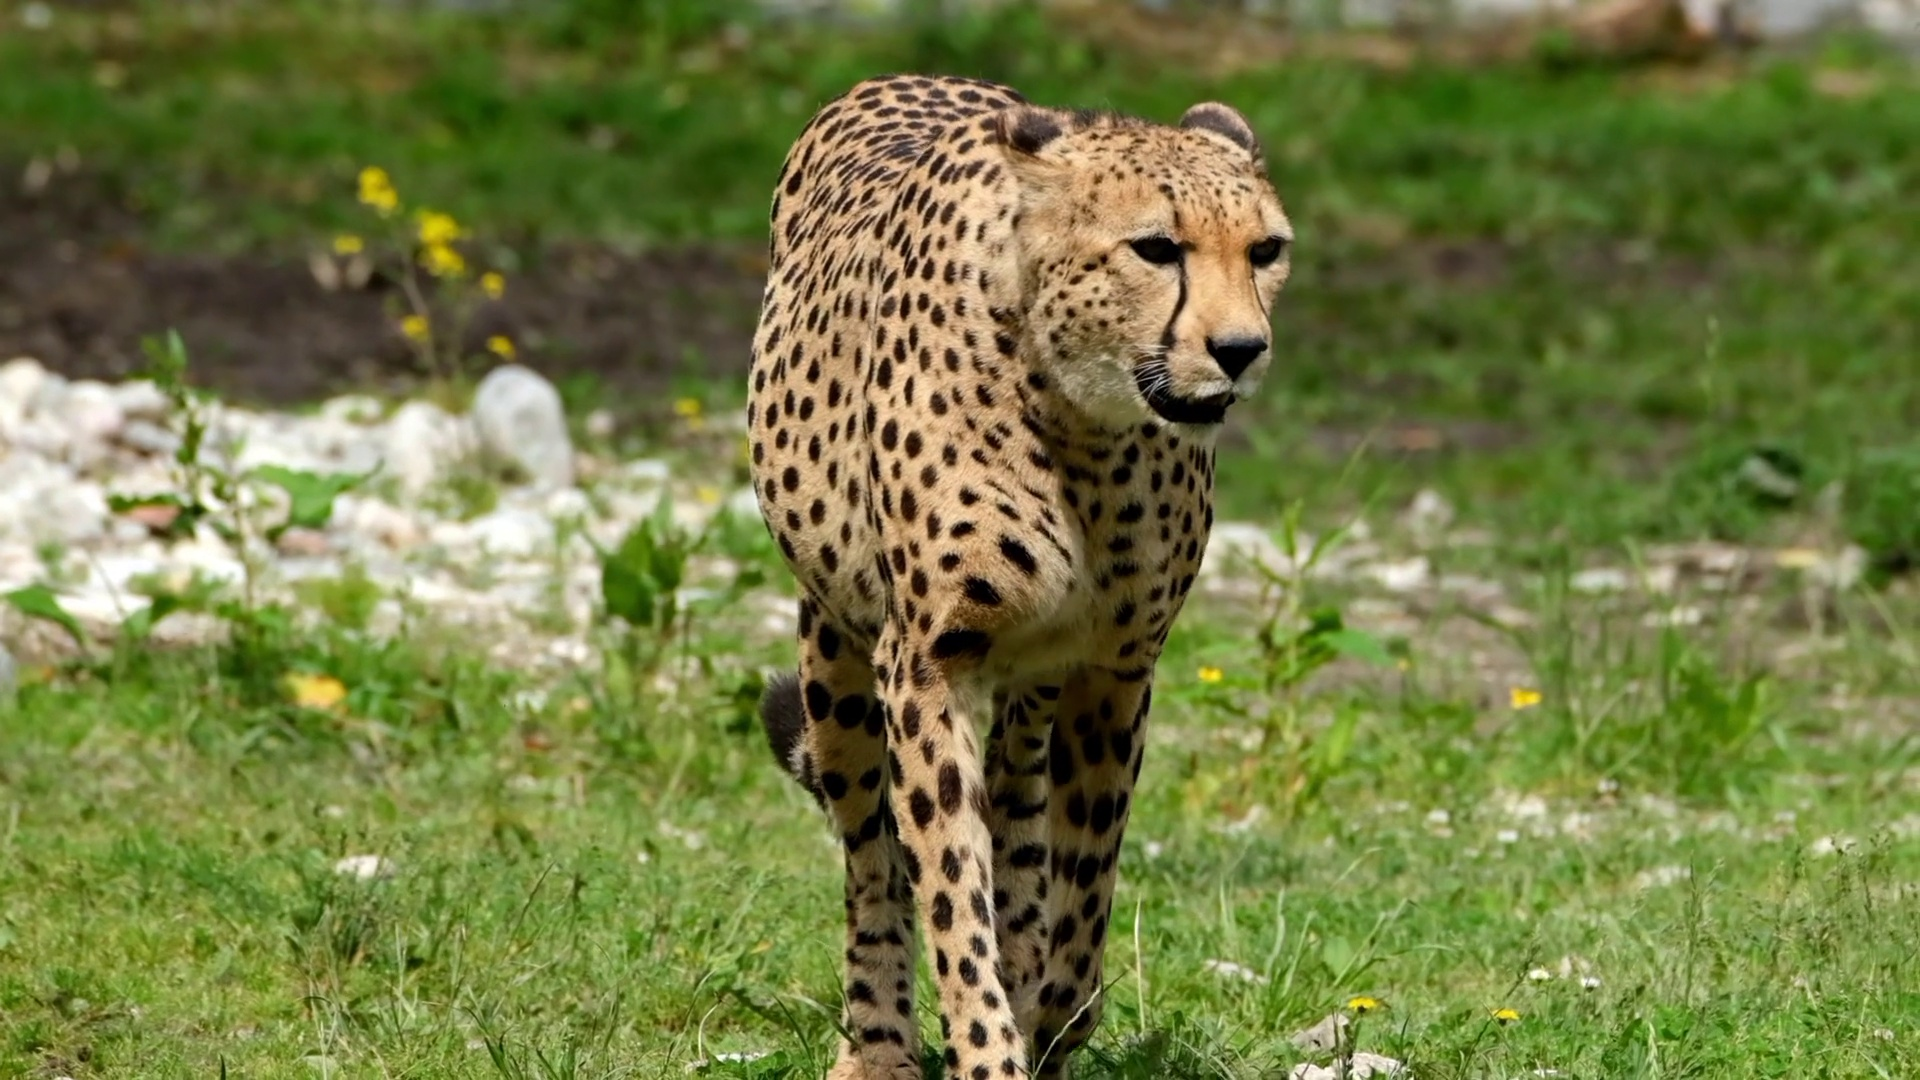Cheetah: (746, 59, 1302, 1080)
